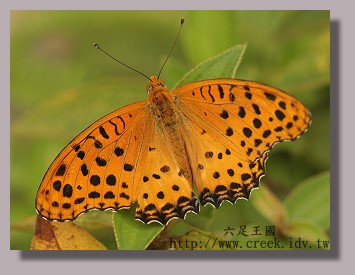Argyreus hyperbius: (29, 14, 313, 225)
butterfly: (31, 16, 315, 227)
